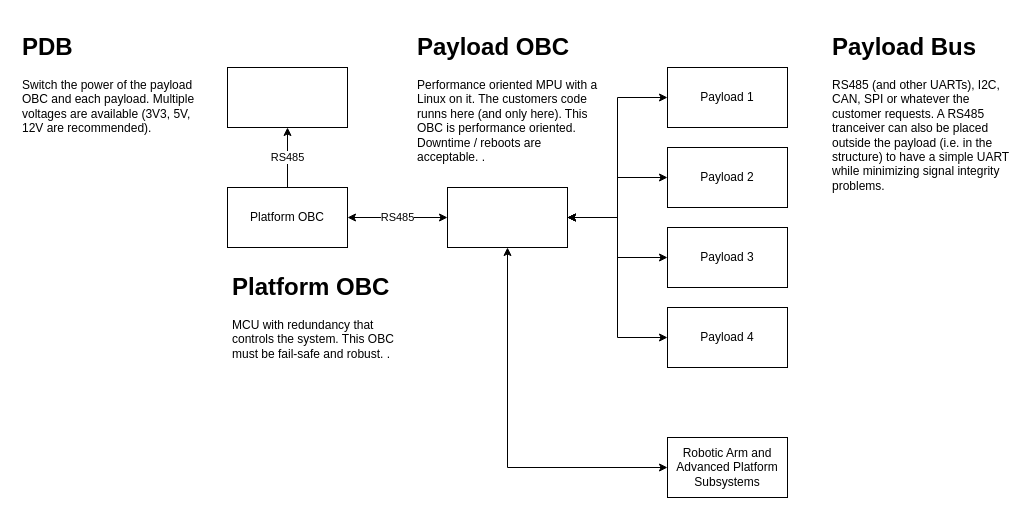
Image size: 1034x515. Some labels were removed from this diagram. The shapes that lost their labels are listed below. From the top down, each one's centre as x and y in pixels, then its label:
At point (287, 97): "PDB".
At point (507, 217): "Payload + Arm OBC".
